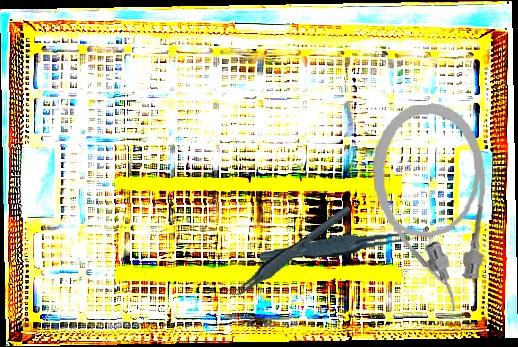Cannula: (370, 101, 492, 316)
Tissue Forceps: (217, 204, 361, 302), (258, 229, 419, 264)
